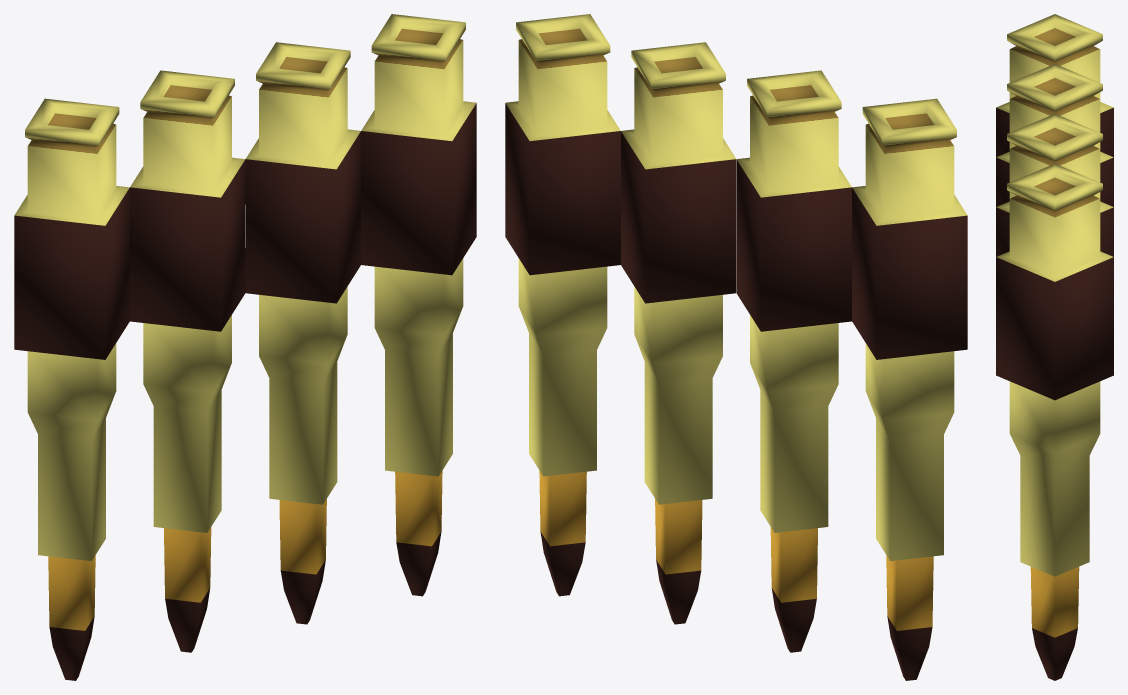
Rendered from DisplayAPRound.fbx.
The picture shows the model from 3 angles, left to right: view 1: azimuth 30°, elevation 25°; view 2: azimuth 150°, elevation 25°; view 3: azimuth 270°, elevation 25°; orthographic projection. The views are drawn at different scales.
Parts seen in each view (by area): view 1: DisplayAPRound; view 2: DisplayAPRound; view 3: DisplayAPRound.
Boxes of the visible parts, left/top/right/bottom form: DisplayAPRound: left=14, top=14, right=476, bottom=680; DisplayAPRound: left=505, top=14, right=967, bottom=680; DisplayAPRound: left=996, top=14, right=1113, bottom=680.
Size of the model in its own units: 0.2462 by 0.2853 by 0.0616.
Materials: 1 (1 with a texture image).
